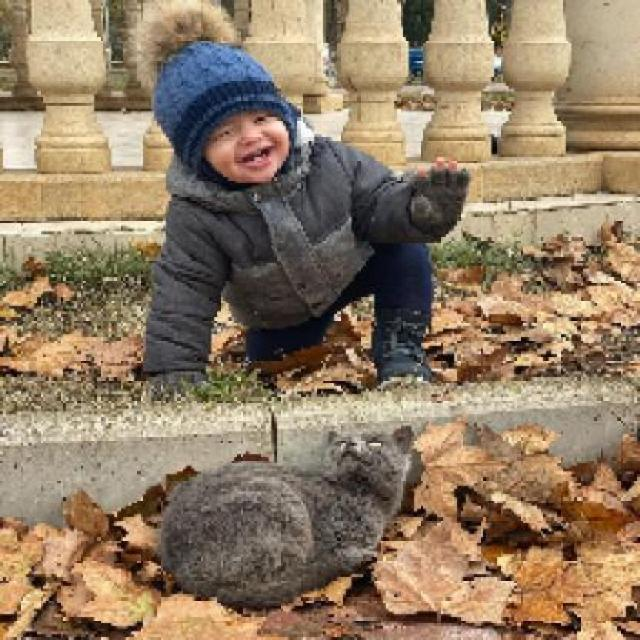child: (127, 1, 473, 388)
